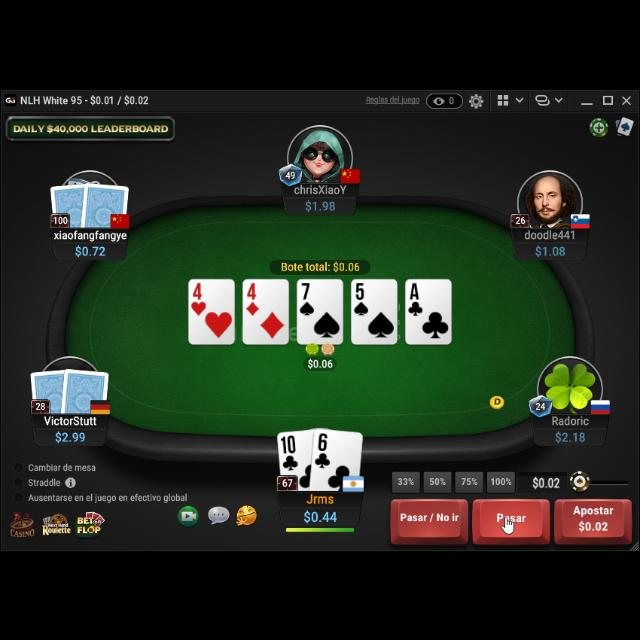4d: (244, 280, 260, 316), (246, 280, 260, 314)
4h: (190, 280, 208, 316)
5s: (352, 280, 370, 316)
6c: (314, 430, 332, 468)
7s: (298, 280, 316, 316)
Ac: (406, 280, 426, 318)
Tc: (280, 432, 300, 470)
bet_text: (306, 352, 336, 366)
card_back: (80, 178, 130, 228), (61, 363, 111, 412), (48, 178, 92, 228), (30, 366, 70, 412)
dealer: (488, 394, 507, 411)
hero_active: (388, 496, 634, 546)
pot_text: (280, 258, 360, 270)
stack_text: (302, 505, 338, 523), (304, 198, 338, 212), (554, 429, 588, 443), (74, 241, 106, 255), (534, 243, 566, 257), (54, 426, 86, 439)
